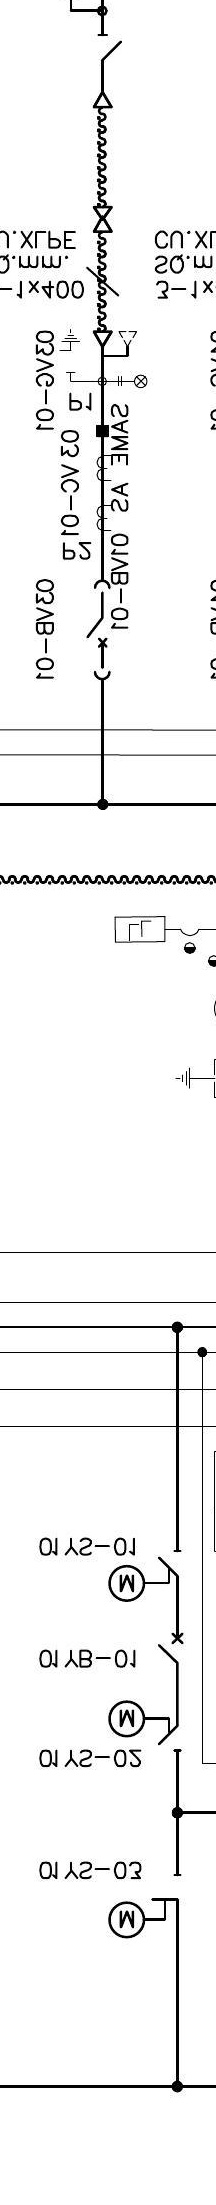115_1way_ds_w_motor: (107, 1873, 182, 1939), (107, 1550, 182, 1603), (107, 1699, 182, 1752)
115_breaker: (157, 1633, 184, 1665)
22_breaker: (86, 578, 112, 681)
22_gs: (58, 329, 81, 374)
22_ll: (116, 374, 149, 390)
LL: (114, 914, 167, 944)
terminator_single: (91, 91, 115, 110)
terminator_splicing_kits: (93, 205, 114, 233)
terminator_w_future: (93, 329, 139, 359)
